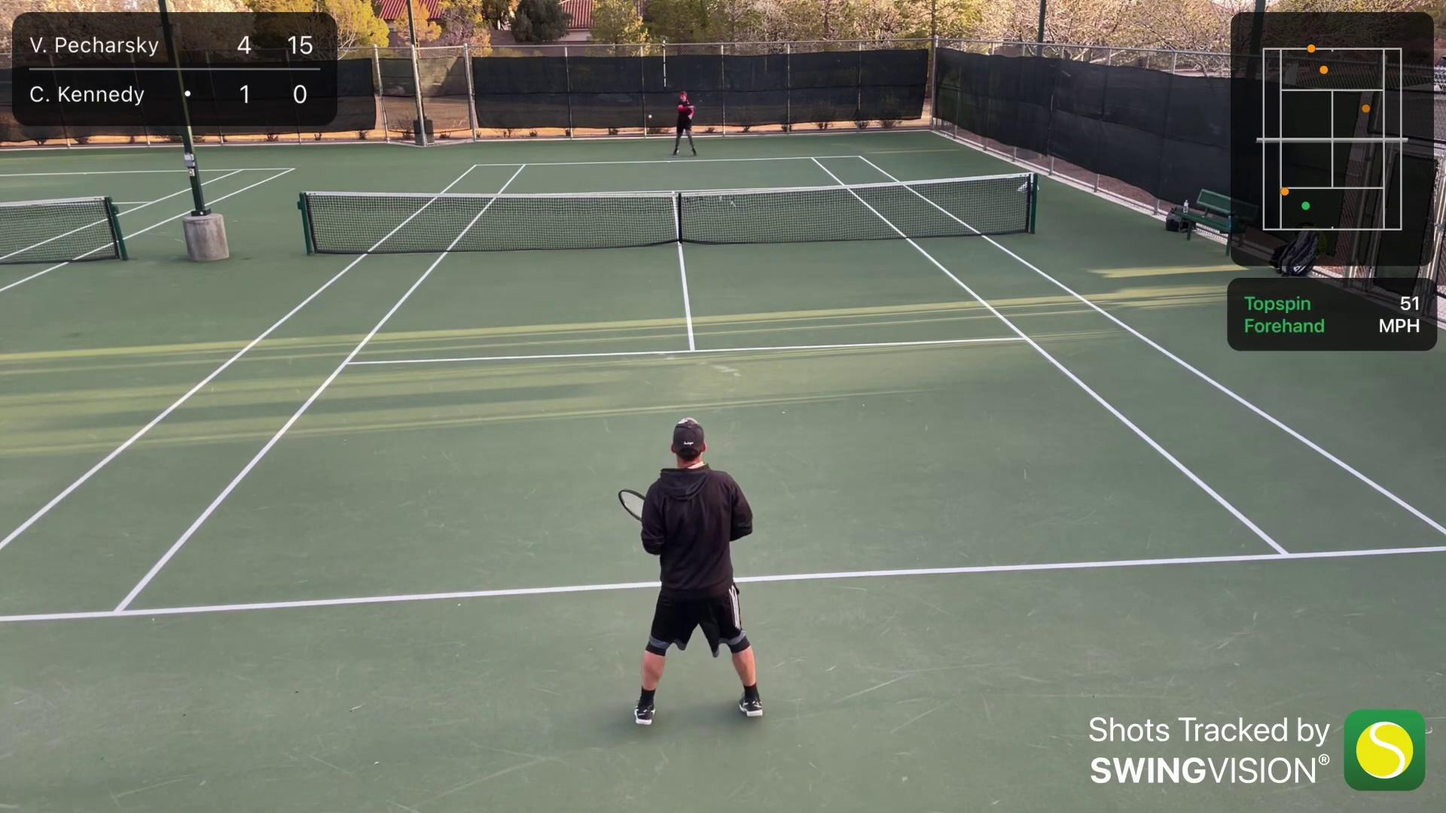ball: (648, 114, 652, 119)
